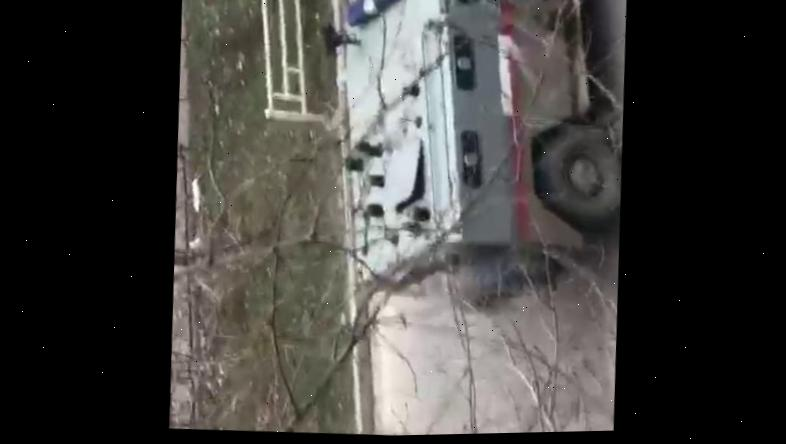armored_car: (331, 0, 633, 323)
